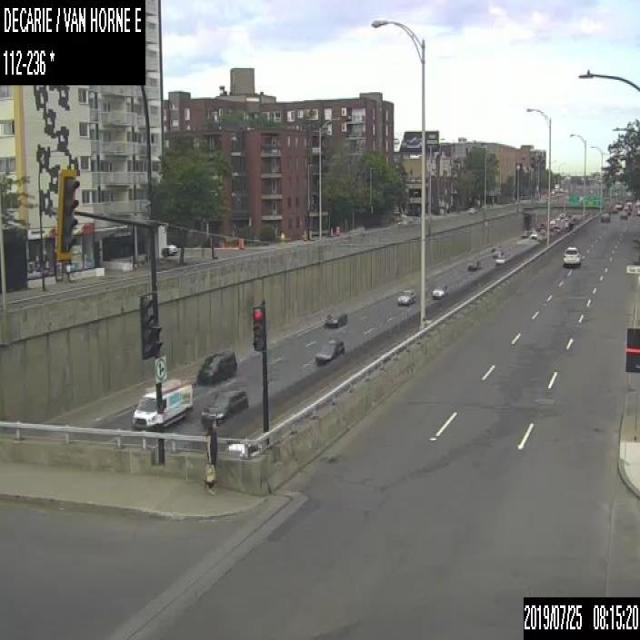construction: (238, 237, 243, 248), (335, 224, 339, 234), (303, 229, 306, 240), (309, 228, 312, 239)
pedestrian: (203, 416, 217, 492)
vehicle: (130, 376, 192, 431), (201, 389, 247, 429), (196, 350, 235, 384), (314, 337, 344, 364), (326, 308, 348, 327), (562, 244, 581, 265), (397, 288, 415, 305), (431, 280, 447, 297), (466, 258, 478, 269), (494, 253, 506, 263), (600, 211, 610, 221), (492, 246, 501, 256), (614, 201, 622, 209), (619, 210, 627, 217), (530, 229, 536, 238), (623, 205, 629, 213), (521, 228, 527, 236), (626, 201, 631, 209)
